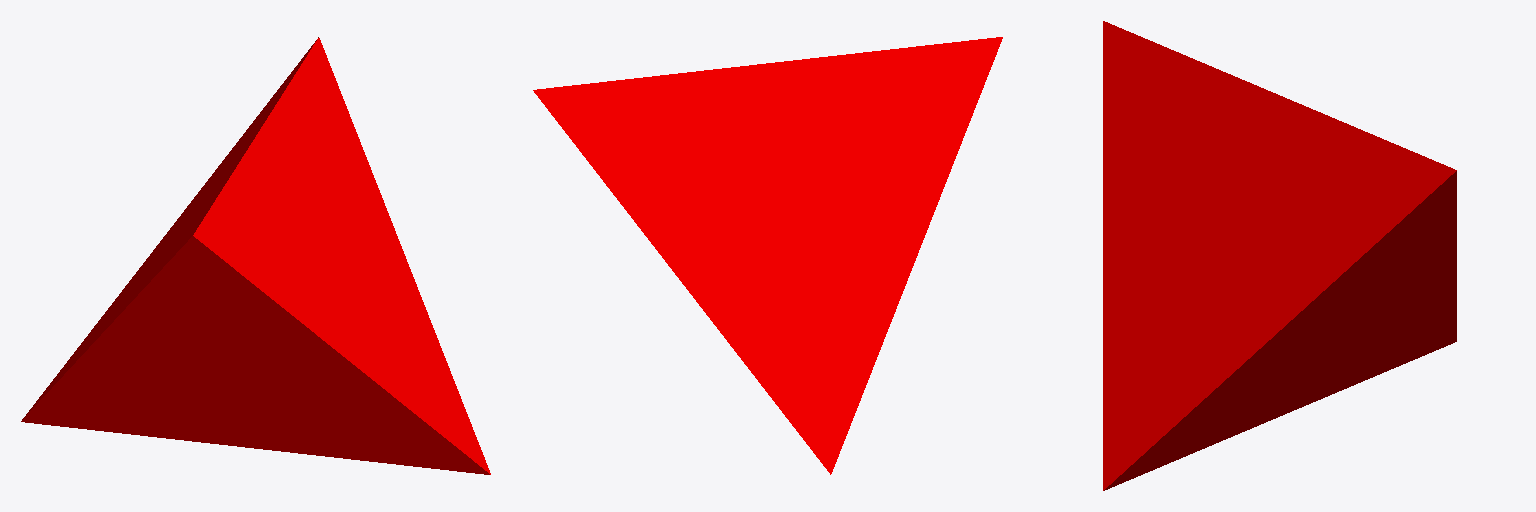
robot.urdf — pyramid:
<?xml version="1.0" ?>
<robot name="pyramid">
  <link name="baseLink">
    <inertial>
      <origin rpy="0 0 0" xyz="0 0 0"/>
       <mass value="1"/>
       <inertia ixx="1" ixy="0" ixz="0" iyy="1" iyz="0" izz="1"/>
    </inertial>
    <visual>
      <origin rpy="0 0 0" xyz="0 0 0.1"/>
      <geometry>
				<mesh filename="pyramid.obj" scale="1 1 1"/>      
      </geometry>
      <material name="red">
        <color rgba="1 0 0 0.8"/>
        <!-- <specular rgb="11 1 1"/> -->
      </material>
    </visual>
    <collision>
      <origin rpy="0 0 0" xyz="0 0 0.1"/>
      <geometry>
				<mesh filename="pyramid.obj" scale="1 1 1"/>   
      </geometry>
    </collision>
  </link>
</robot>

--- What the picture shows (computed from the rendered views, not written in the file) ---
3 views of the same robot in one strip: view 1: azimuth 30°, elevation 25°; view 2: azimuth 150°, elevation 25°; view 3: azimuth 270°, elevation 25° (orthographic).
Robot: pyramid — 1 links, 0 joints (none); root link baseLink; default pose: every joint at zero.
Links seen in each view (by area): view 1: baseLink; view 2: baseLink; view 3: baseLink.
Link boxes in pixels (box(x1,y1,x2,y2)): baseLink: box(21, 37, 490, 474); baseLink: box(533, 37, 1002, 474); baseLink: box(1103, 21, 1456, 490).
Bounding box of the posed robot: 1.15 × 1.15 × 1.15 m (x, y, z).
Meshes: 1 distinct files referenced, 1 mesh visuals loaded (1 OBJ).
